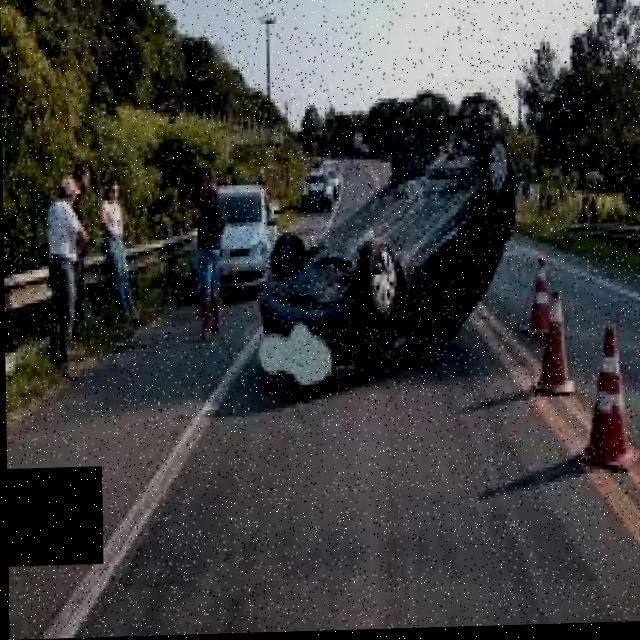single accident: (0, 25, 559, 416)
